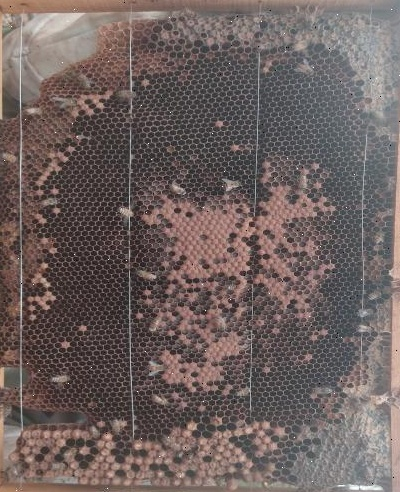cria: (8, 56, 367, 487)
